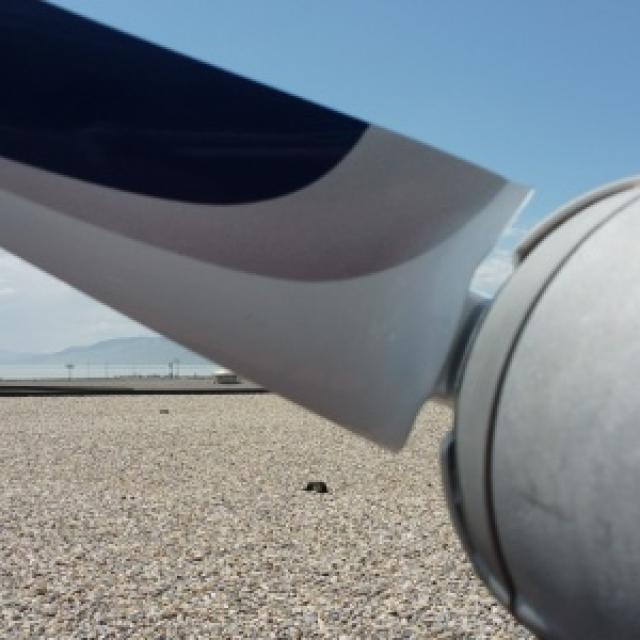healthy: (11, 403, 294, 602)
